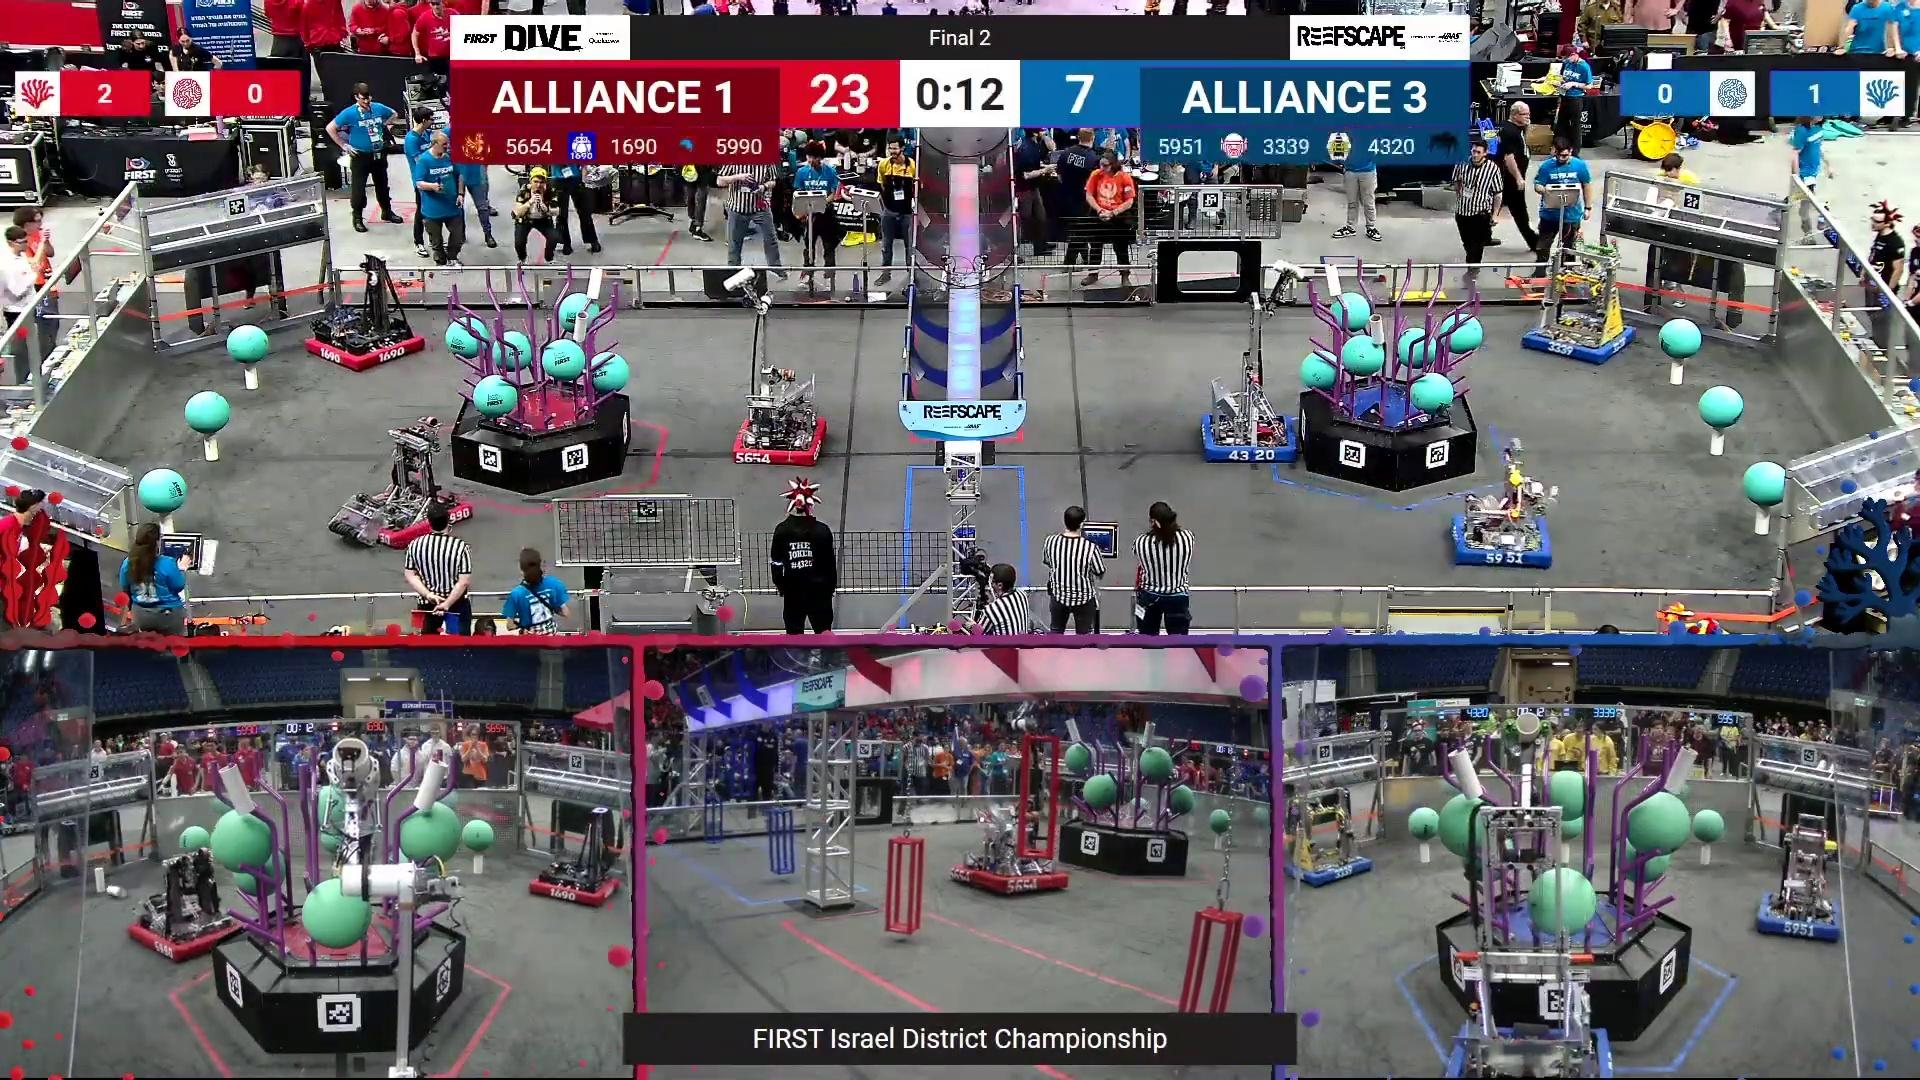robot: (1439, 709, 1611, 1079), (1203, 258, 1311, 463), (328, 415, 471, 549), (953, 750, 1075, 895), (305, 251, 423, 371), (1523, 240, 1638, 364), (1448, 434, 1552, 567), (129, 847, 244, 964), (1755, 825, 1844, 942), (733, 367, 828, 465), (529, 806, 621, 907), (1287, 786, 1371, 886)
